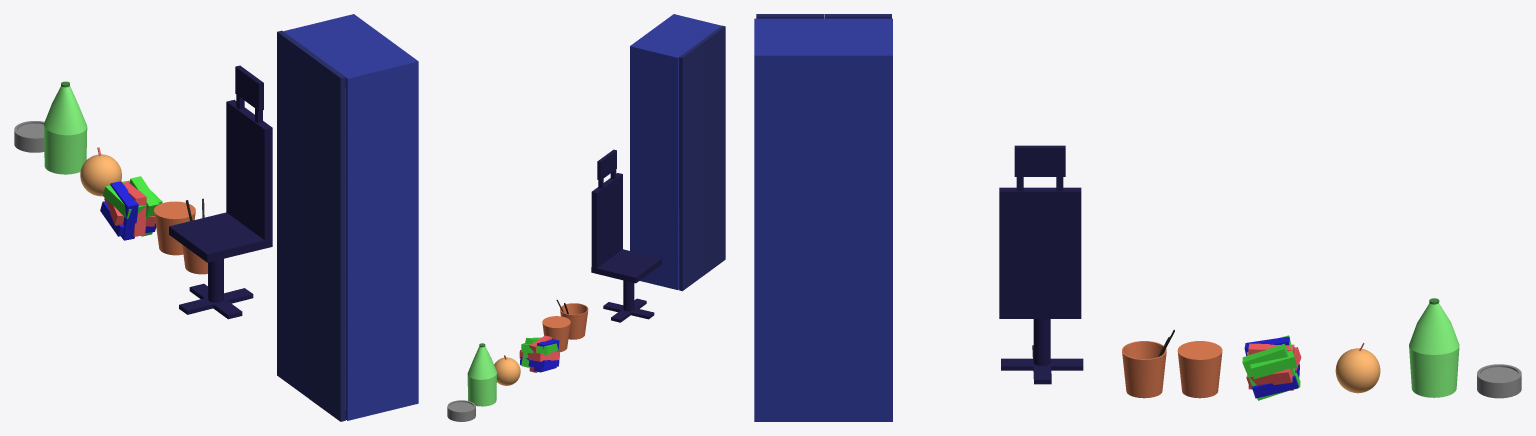
3 views of the same model, side by side, from view 1: azimuth 30°, elevation 25°; view 2: azimuth 150°, elevation 25°; view 3: azimuth 270°, elevation 25° (orthographic). The views are drawn at different scales.
Visible parts, largest first — view 1: Cube.014, Cube.007, Cube.013, Cube.006, Cylinder.002, Cylinder.001, Sphere, Cylinder.004, Cube.004, Cube.002, Cube.003, Cylinder (+2 smaller); view 2: Cube.014, Cube.006, Cube.013, Cube.007, Cylinder.002, Cylinder, Cylinder.001, Sphere, Cylinder.004, Cube.008, Cube.009; view 3: Cube.014, Cube.013, Cylinder.002, Cylinder.001, Cylinder, Sphere, Cylinder.004, Cube.003, Cube.009.
Boxes of the visible parts, <box> form: Cube.014: <box>283,14,418,420</box>; Cube.007: <box>309,54,345,421</box>; Cube.013: <box>169,65,272,319</box>; Cube.006: <box>277,30,313,398</box>; Cylinder.002: <box>44,86,87,174</box>; Cylinder.001: <box>154,201,195,255</box>; Sphere: <box>80,154,121,196</box>; Cylinder.004: <box>14,121,44,152</box>; Cube.004: <box>110,181,138,240</box>; Cube.002: <box>122,180,146,236</box>; Cube.003: <box>129,176,159,236</box>; Cylinder: <box>182,244,207,274</box>; Cube.014: <box>630,14,721,289</box>; Cube.006: <box>679,41,703,291</box>; Cube.013: <box>591,149,661,322</box>; Cube.007: <box>701,25,725,275</box>; Cylinder.002: <box>467,346,496,406</box>; Cylinder: <box>560,303,588,339</box>; Cylinder.001: <box>542,316,570,352</box>; Sphere: <box>494,357,520,385</box>; Cylinder.004: <box>447,400,475,421</box>; Cube.008: <box>519,350,559,361</box>; Cube.009: <box>521,343,558,354</box>; Cube.014: <box>754,18,892,421</box>; Cube.013: <box>999,145,1083,384</box>; Cylinder.002: <box>1409,303,1459,397</box>; Cylinder.001: <box>1177,341,1222,398</box>; Cylinder: <box>1122,341,1166,398</box>; Sphere: <box>1335,348,1380,393</box>; Cylinder.004: <box>1477,364,1521,398</box>; Cube.003: <box>1242,343,1300,400</box>; Cube.009: <box>1247,335,1296,379</box>.
Bounding box in the file's own units: 558 × 1807 × 3418.
